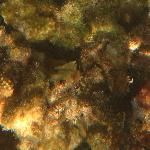dead: (11, 16, 133, 123)
